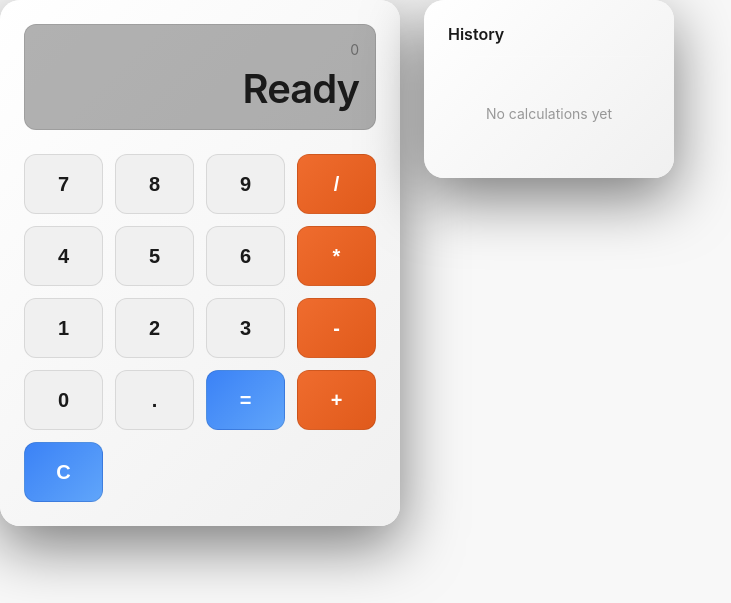
Calculator Component - Basic Interactions › should handle operator input
Note: Click 5 + 3
Click the button named "digit 5" at x=154, y=256, box [115,226,194,286]
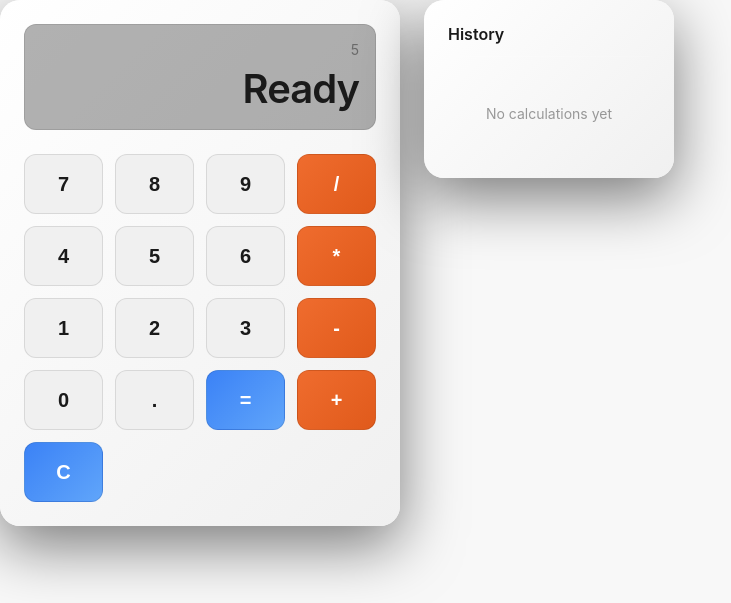
Click the button named "operator +" at x=336, y=400, box [297,370,376,430]
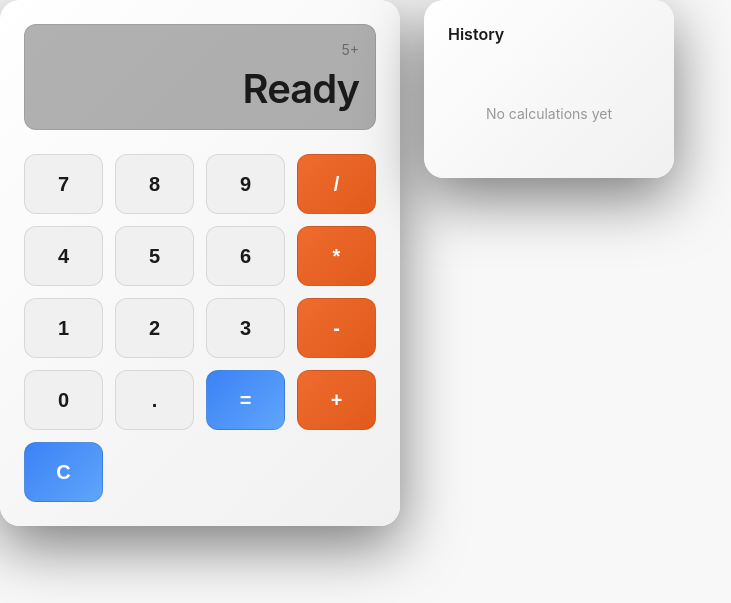
Click the button named "digit 3" at x=246, y=328, box [206,298,285,358]
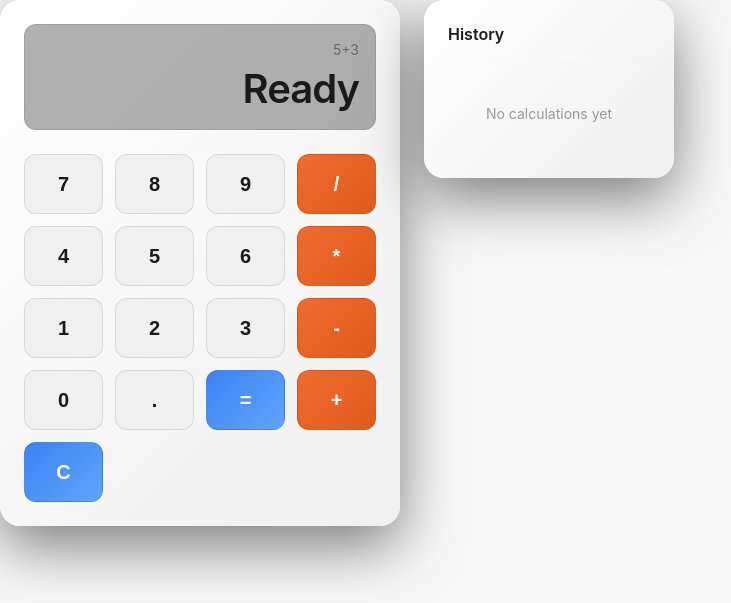
Expected: the message named "Calculator display" shows "5+3", [333,41,359,58]
